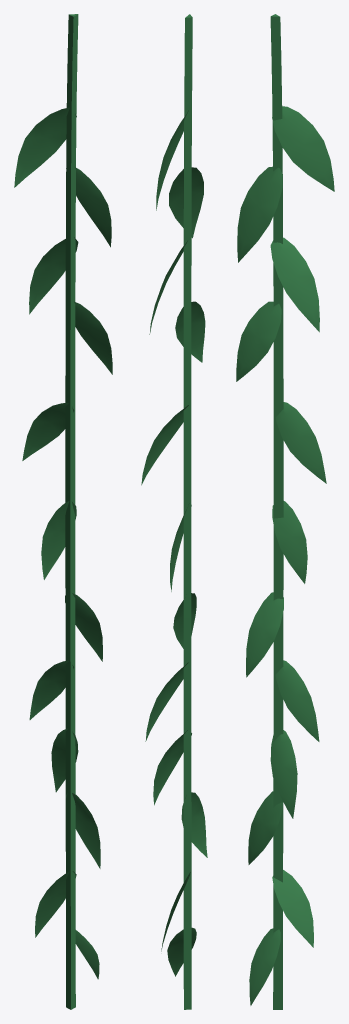
File: vine_G_scanden.fbx
3 views of the same model, side by side, from view 1: azimuth 90°, elevation 25°; view 2: azimuth 150°, elevation 25°; view 3: azimuth 270°, elevation 25° (orthographic).
Visible parts, largest first — view 1: vine_G_alangium_root, vine_G_scanden_A_leaf_A1, vine_G_scanden_A_leaf_A2, vine_G_scanden_A_leaf_A4, vine_G_scanden_A_leaf_A, vine_G_scanden_A_leaf_A3, vine_G_scanden_A_leaf_A5, vine_G_scanden_A_leaf_A7, vine_G_scanden_A_leaf_A9, vine_G_scanden_A_leaf_A6, vine_G_scanden_A_leaf_A10, vine_G_scanden_A_leaf_A8 (+1 smaller); view 2: vine_G_alangium_root, vine_G_scanden_A_leaf_A, vine_G_scanden_A_leaf_A3, vine_G_scanden_A_leaf_A4, vine_G_scanden_A_leaf_A8, vine_G_scanden_A_leaf_A9, vine_G_scanden_A_leaf_A7, vine_G_scanden_A_leaf_A11, vine_G_scanden_A_leaf_A1, vine_G_scanden_A_leaf_A6, vine_G_scanden_A_leaf_A5, vine_G_scanden_A_leaf_A2 (+1 smaller); view 3: vine_G_alangium_root, vine_G_scanden_A_leaf_A1, vine_G_scanden_A_leaf_A, vine_G_scanden_A_leaf_A2, vine_G_scanden_A_leaf_A3, vine_G_scanden_A_leaf_A4, vine_G_scanden_A_leaf_A6, vine_G_scanden_A_leaf_A7, vine_G_scanden_A_leaf_A5, vine_G_scanden_A_leaf_A10, vine_G_scanden_A_leaf_A8, vine_G_scanden_A_leaf_A9 (+1 smaller).
Part boxes in pixels (x1,y1,x2,y2): vine_G_alangium_root: (65,14,78,1009); vine_G_scanden_A_leaf_A1: (14,107,76,187); vine_G_scanden_A_leaf_A2: (29,237,78,314); vine_G_scanden_A_leaf_A4: (22,403,74,460); vine_G_scanden_A_leaf_A: (66,166,111,247); vine_G_scanden_A_leaf_A3: (74,301,112,374); vine_G_scanden_A_leaf_A5: (41,501,76,579); vine_G_scanden_A_leaf_A7: (29,660,73,719); vine_G_scanden_A_leaf_A9: (65,792,100,868); vine_G_scanden_A_leaf_A6: (65,593,102,661); vine_G_scanden_A_leaf_A10: (35,871,76,937); vine_G_scanden_A_leaf_A8: (51,728,78,792); vine_G_alangium_root: (183,14,192,1009); vine_G_scanden_A_leaf_A: (169,167,203,238); vine_G_scanden_A_leaf_A3: (175,301,205,362); vine_G_scanden_A_leaf_A4: (141,405,188,485); vine_G_scanden_A_leaf_A8: (153,730,191,805); vine_G_scanden_A_leaf_A9: (181,792,207,857); vine_G_scanden_A_leaf_A7: (145,662,188,741); vine_G_scanden_A_leaf_A11: (167,927,196,976); vine_G_scanden_A_leaf_A1: (156,110,188,210); vine_G_scanden_A_leaf_A6: (173,593,196,648); vine_G_scanden_A_leaf_A5: (170,503,191,591); vine_G_scanden_A_leaf_A2: (149,240,187,334); vine_G_alangium_root: (270,14,283,1009); vine_G_scanden_A_leaf_A1: (272,106,334,191); vine_G_scanden_A_leaf_A: (237,166,282,262); vine_G_scanden_A_leaf_A2: (270,237,319,332); vine_G_scanden_A_leaf_A3: (236,301,281,381); vine_G_scanden_A_leaf_A4: (276,402,326,483); vine_G_scanden_A_leaf_A6: (246,592,283,677); vine_G_scanden_A_leaf_A7: (275,660,319,741); vine_G_scanden_A_leaf_A5: (272,501,307,583); vine_G_scanden_A_leaf_A10: (272,870,313,947); vine_G_scanden_A_leaf_A8: (270,730,297,818); vine_G_scanden_A_leaf_A9: (248,791,282,864).
Size of the model in its own units: 8.39 by 248 by 22.24.
